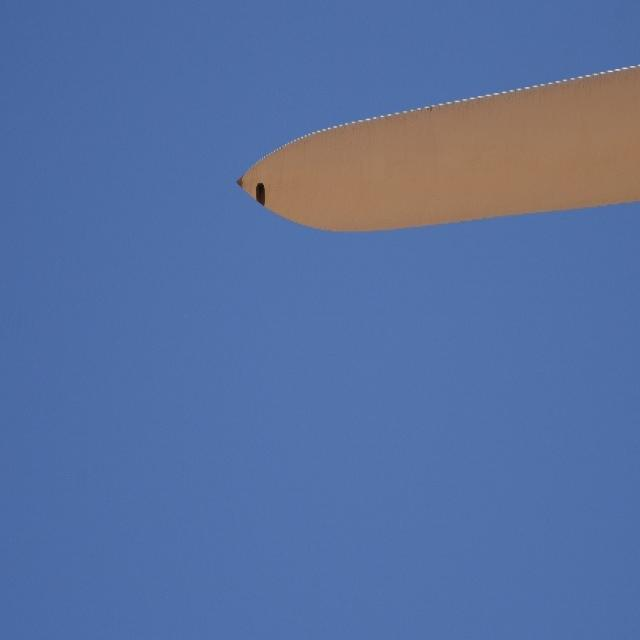Burn Mark: (256, 180, 268, 209)
